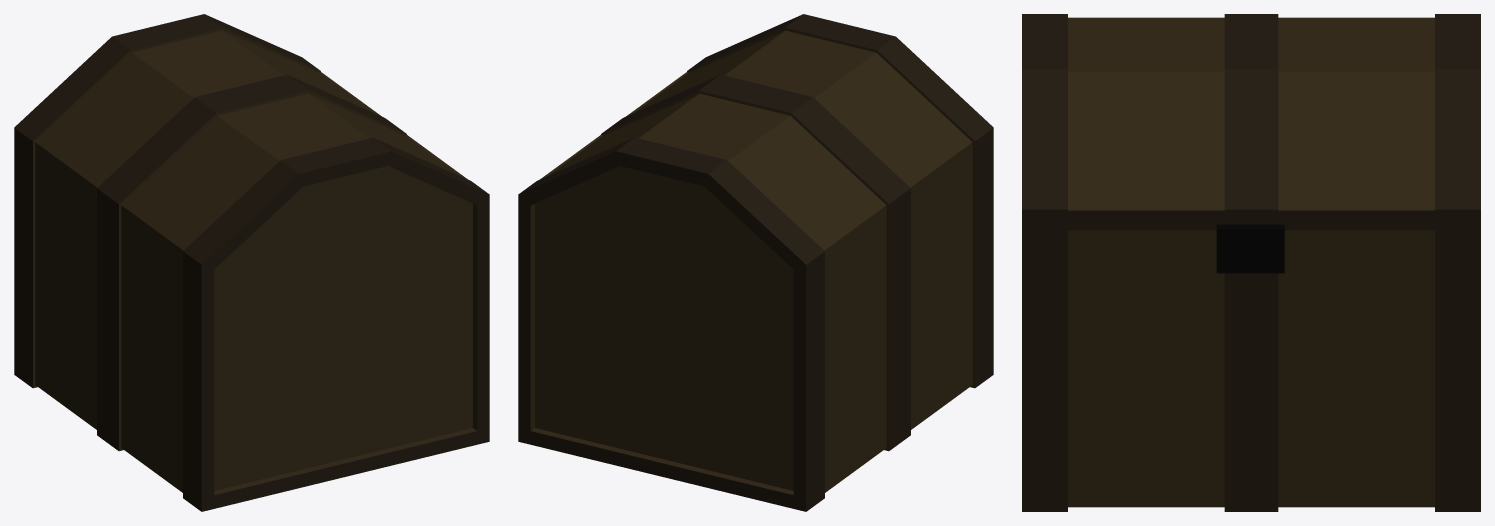
File: Treasure_Chest_Texture_Ready.obj
3 views of the same model, side by side, from view 1: azimuth 30°, elevation 25°; view 2: azimuth 150°, elevation 25°; view 3: azimuth 270°, elevation 25° (orthographic). The views are drawn at different scales.
Visible parts, largest first — view 1: TreasureChest TreasureChestparts; view 2: TreasureChest TreasureChestparts; view 3: TreasureChest TreasureChestparts, TreasureChestparts Lock.
Part boxes in pixels (box(x1,y1,x2,y2)): TreasureChest TreasureChestparts: box(14, 14, 489, 511); TreasureChest TreasureChestparts: box(518, 14, 993, 511); TreasureChest TreasureChestparts: box(1022, 14, 1480, 511); TreasureChestparts Lock: box(1216, 224, 1284, 273).
Size of the model in its own units: 80.09 by 81.33 by 87.99.
